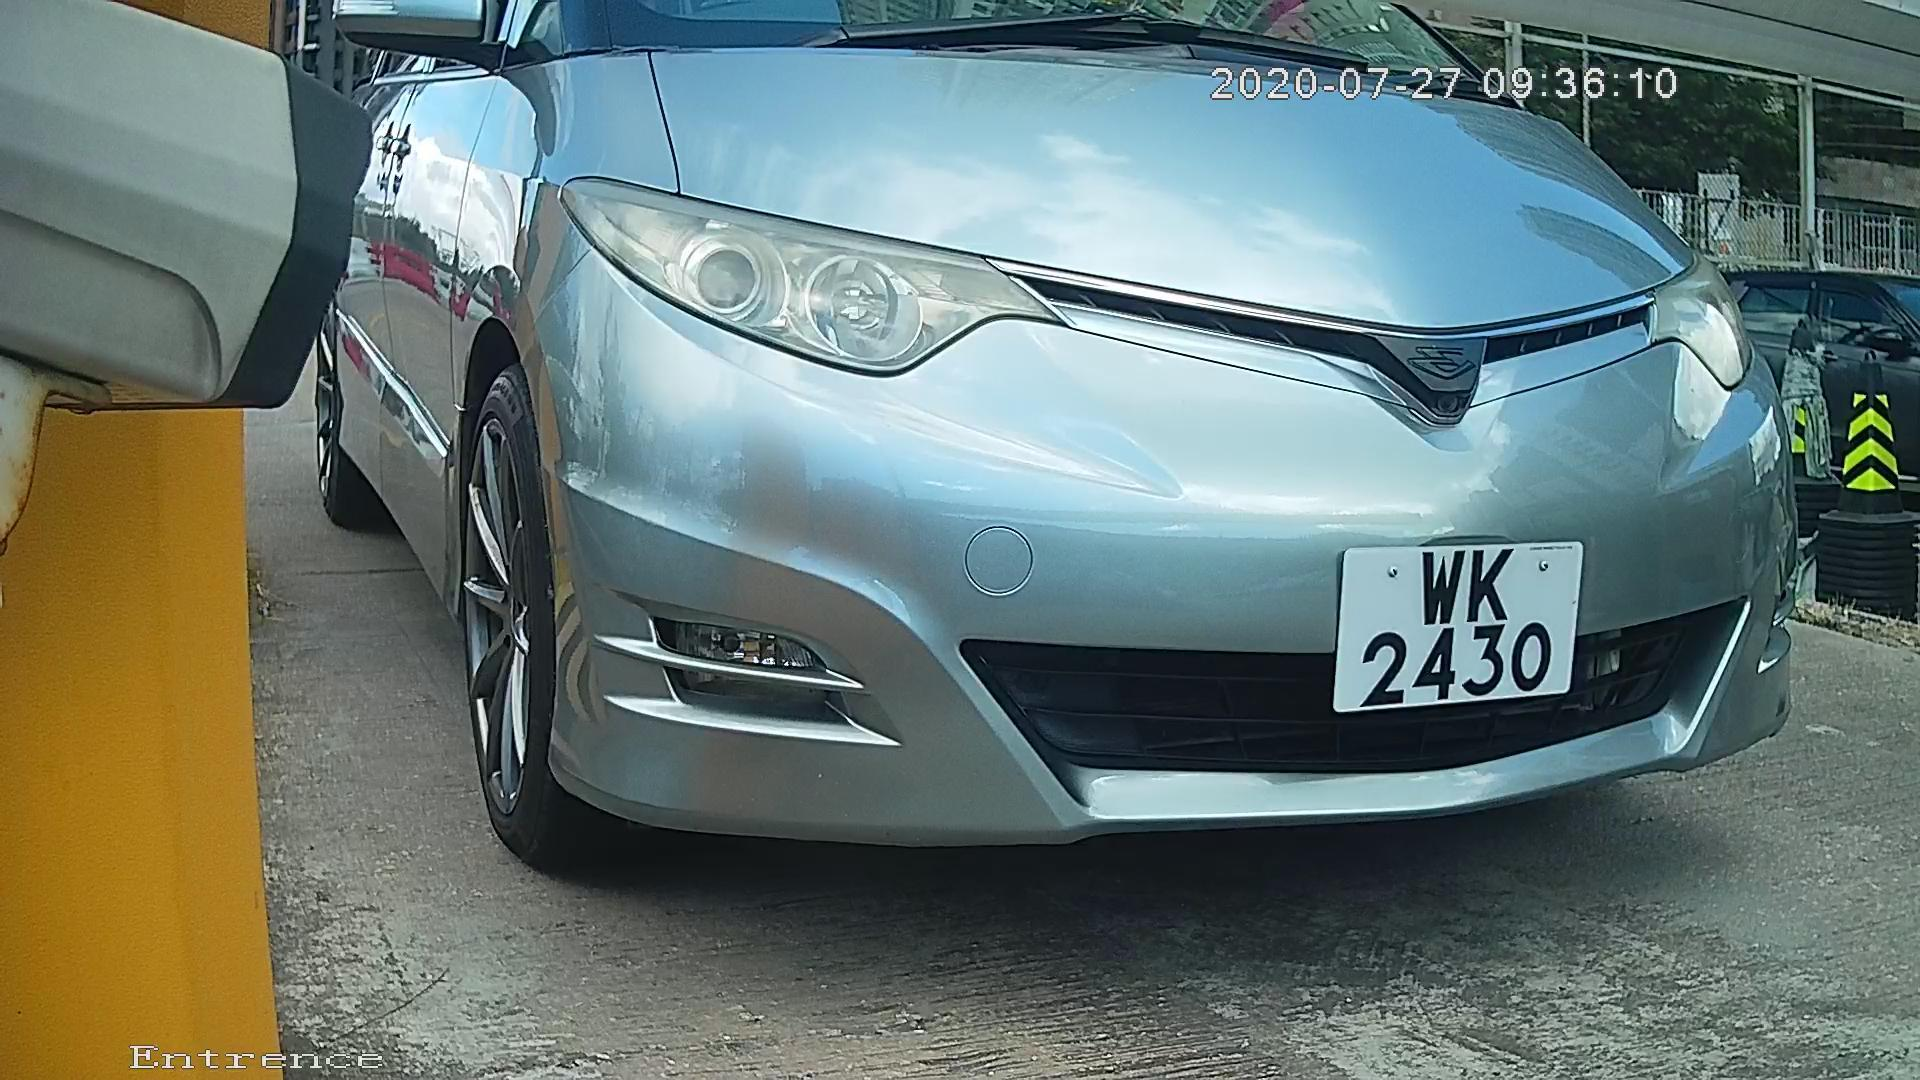Car: (275, 54, 1818, 902)
License Plate: (1312, 516, 1595, 729)
